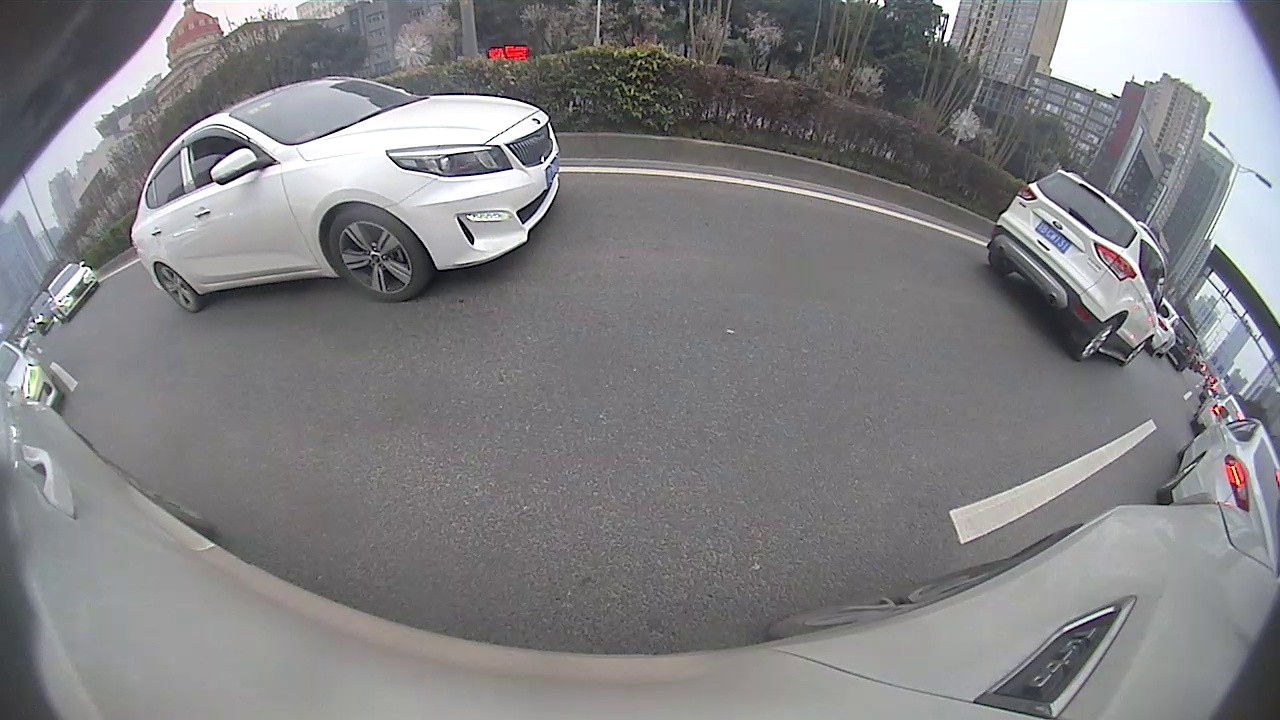car: (128, 77, 563, 313), (986, 168, 1170, 367), (1155, 404, 1277, 536), (42, 258, 103, 325)
front: (333, 210, 430, 304), (1125, 340, 1148, 366)
rear: (155, 263, 202, 314), (1075, 320, 1120, 363)
